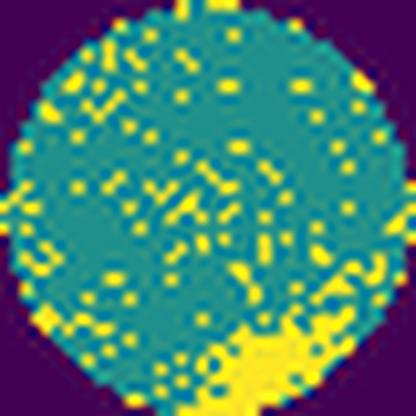Edge-Loc: (168, 296, 373, 416)
